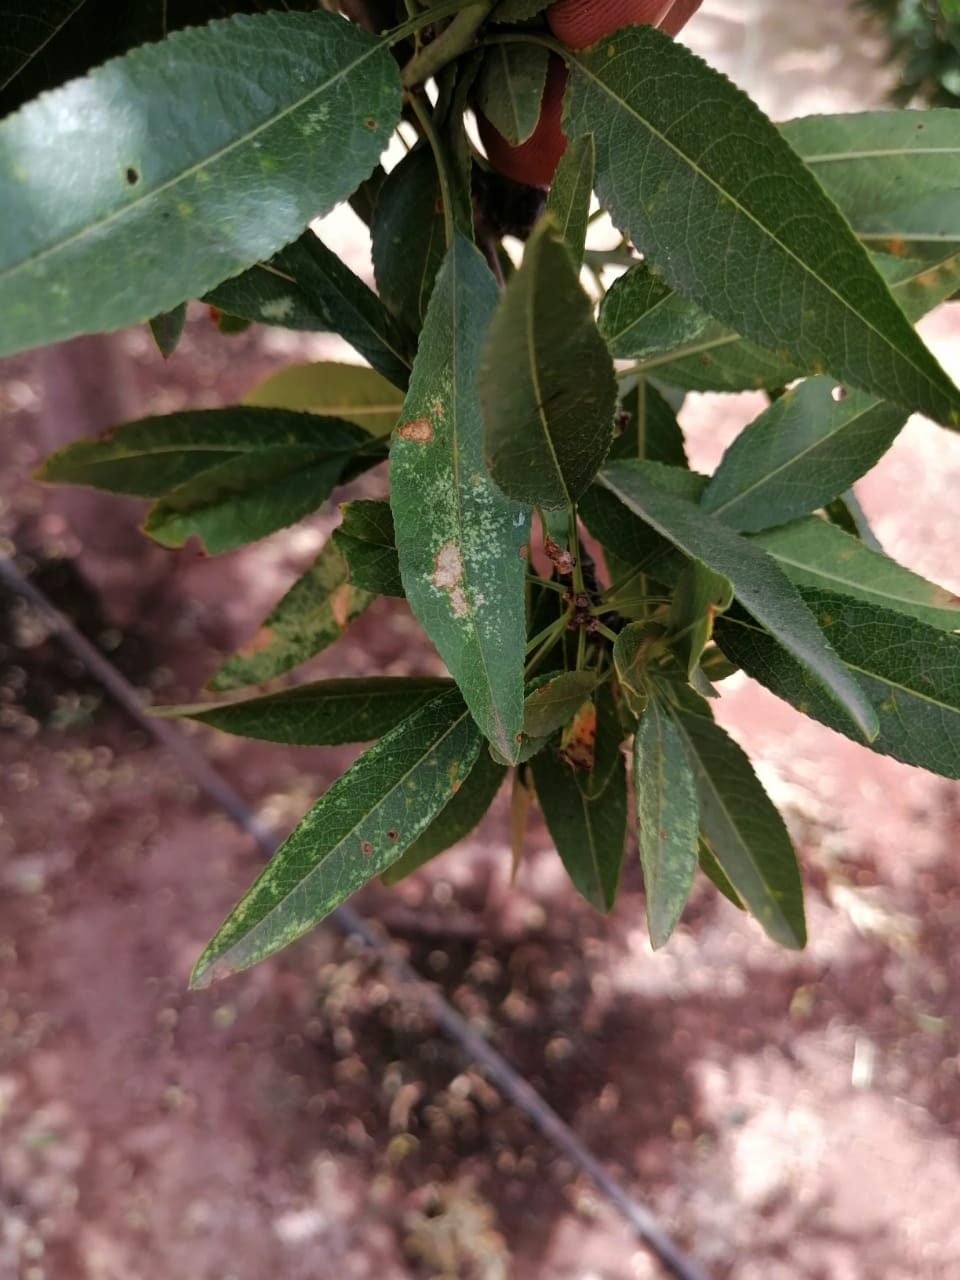faux tigre: (184, 690, 478, 992), (388, 234, 533, 765)
